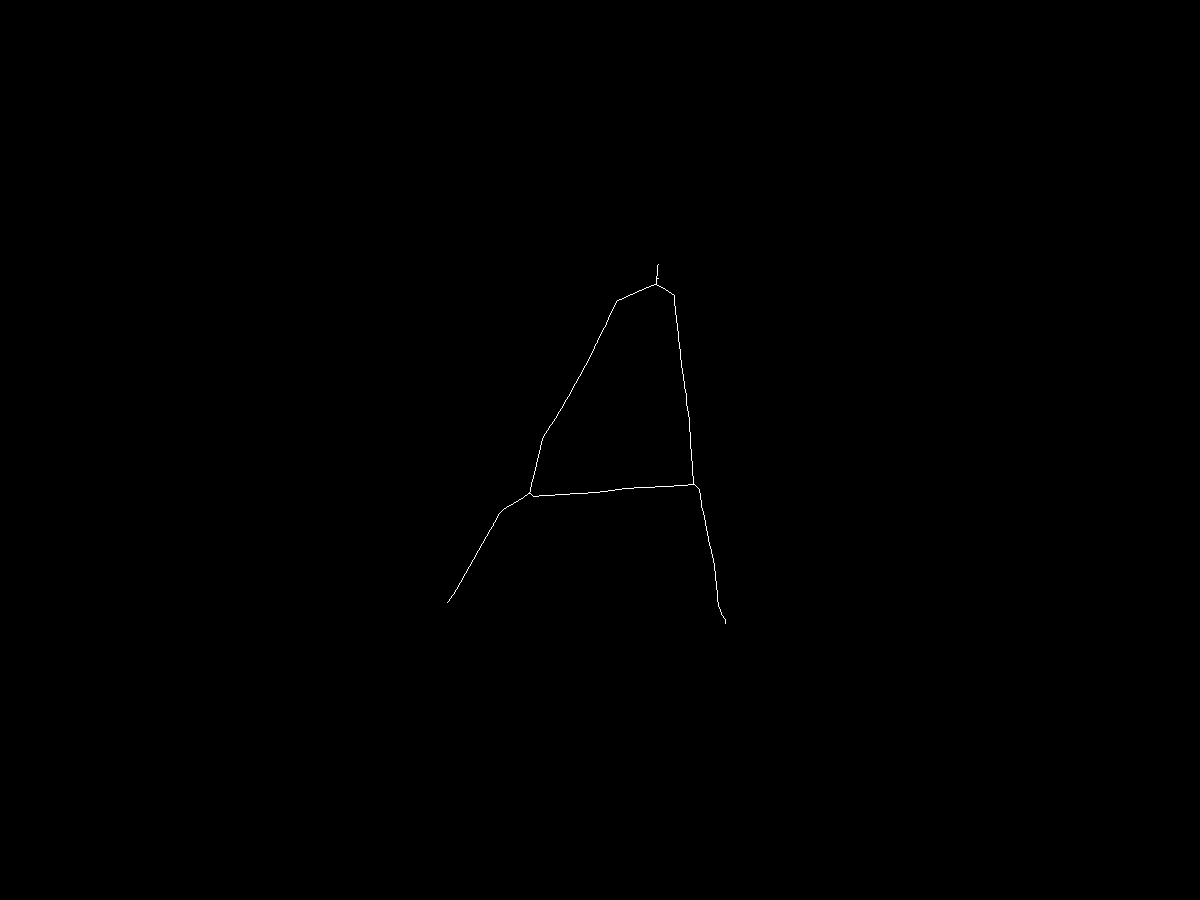dian1: (650, 277, 669, 296)
dian2: (522, 491, 536, 505)
dian3: (442, 596, 457, 611)
dian4: (691, 477, 705, 491)
dian5: (710, 609, 741, 640)
